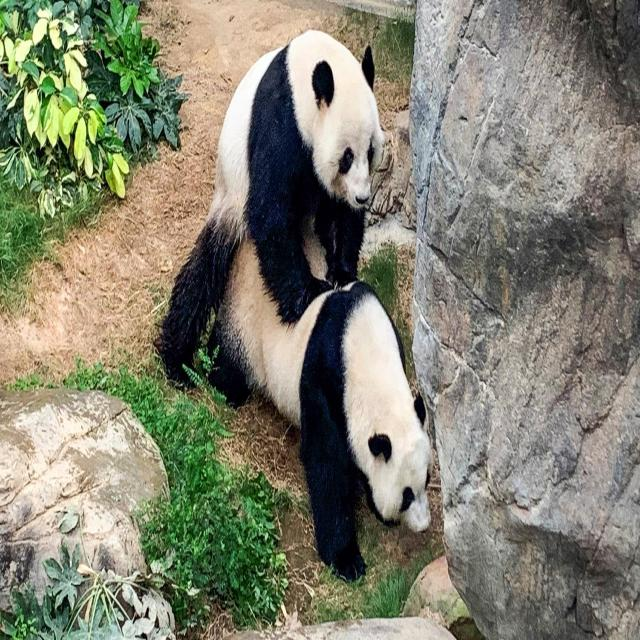Panda: (149, 202, 446, 595), (197, 17, 391, 324)
